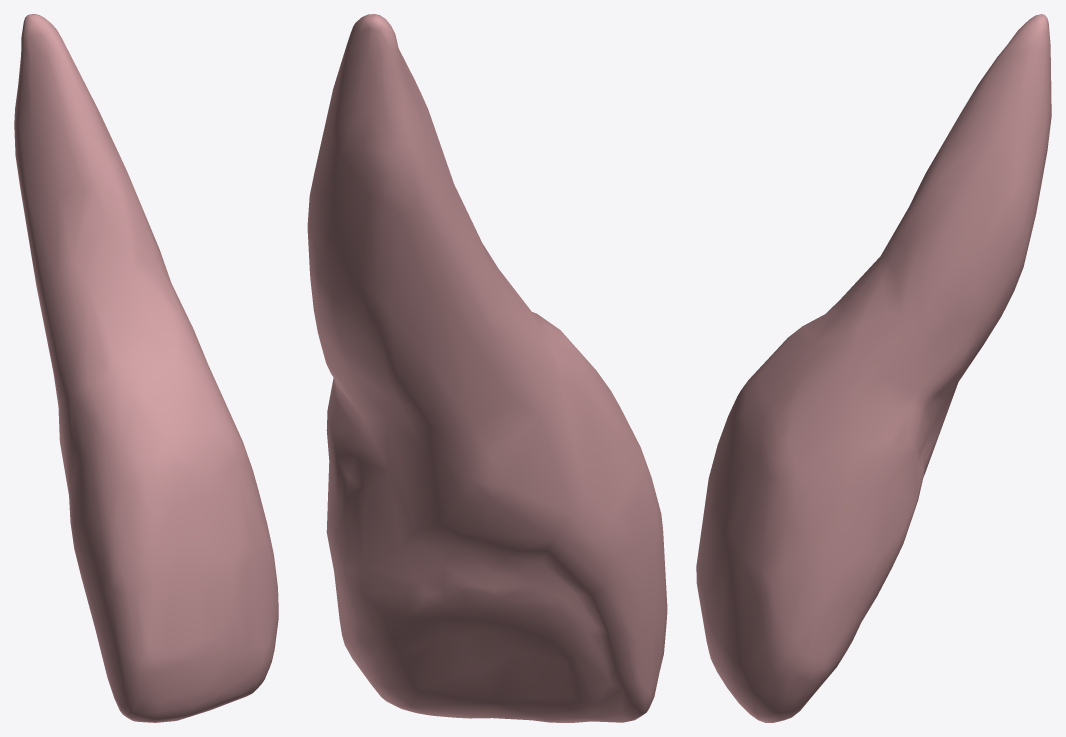
The model's file is fma55682_fj1265.glb.
The picture shows the model from 3 angles, left to right: view 1: azimuth 30°, elevation 25°; view 2: azimuth 150°, elevation 25°; view 3: azimuth 270°, elevation 25°; orthographic projection. The views are drawn at different scales.
Parts seen in each view (by area): view 1: FMA55682_FJ1265; view 2: FMA55682_FJ1265; view 3: FMA55682_FJ1265.
Part boxes in pixels (left/top/right/bottom): FMA55682_FJ1265: left=14, top=14, right=278, bottom=722; FMA55682_FJ1265: left=307, top=14, right=667, bottom=722; FMA55682_FJ1265: left=696, top=14, right=1051, bottom=722.
Size of the model in its own units: 0.00885 by 0.0264 by 0.0129.
